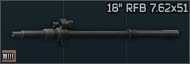RFB 7.62x51 18 inch barrel: (0, 0, 190, 64)
